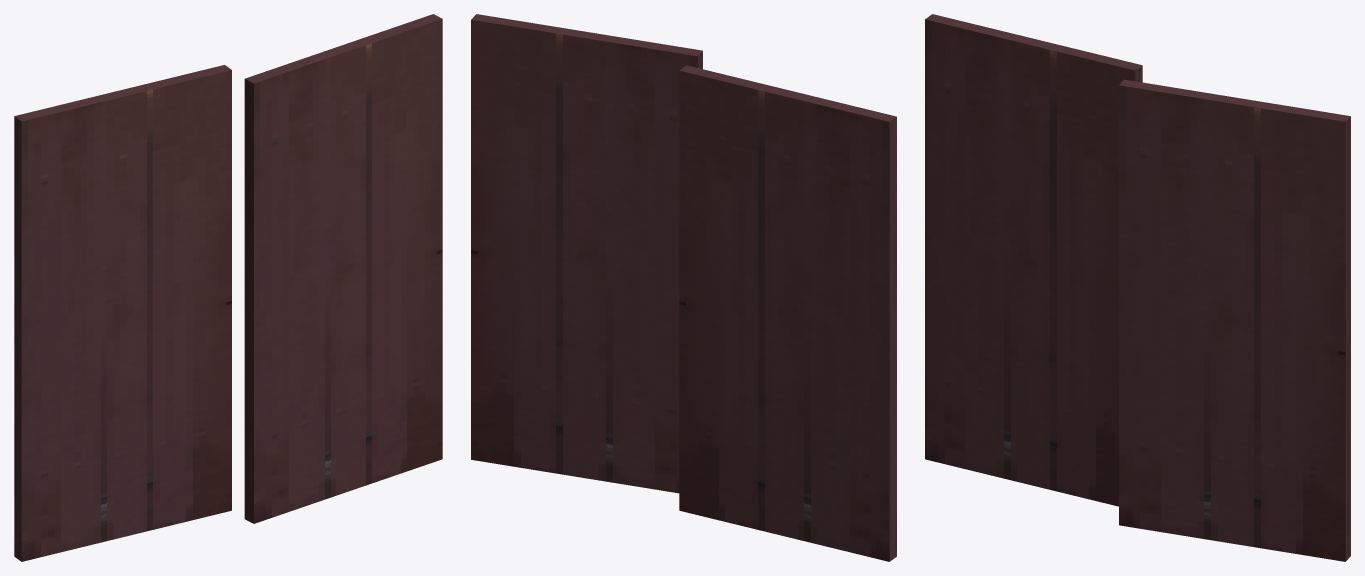
Rendered from shutters_double_closed_02.glb.
The picture shows the model from 3 angles, left to right: view 1: azimuth 30°, elevation 25°; view 2: azimuth 150°, elevation 25°; view 3: azimuth 330°, elevation 25°; orthographic projection.
Visible parts, largest first — view 1: shutters_double_closed_022; view 2: shutters_double_closed_022; view 3: shutters_double_closed_022.
Boxes of the visible parts, box(x1,y1,x2,y2) form: shutters_double_closed_022: box(14, 14, 442, 561); shutters_double_closed_022: box(471, 14, 896, 561); shutters_double_closed_022: box(925, 14, 1350, 561).
Bounding box in the file's own units: 2 × 2 × 0.2176.
Materials: 1 (1 with a texture image).
